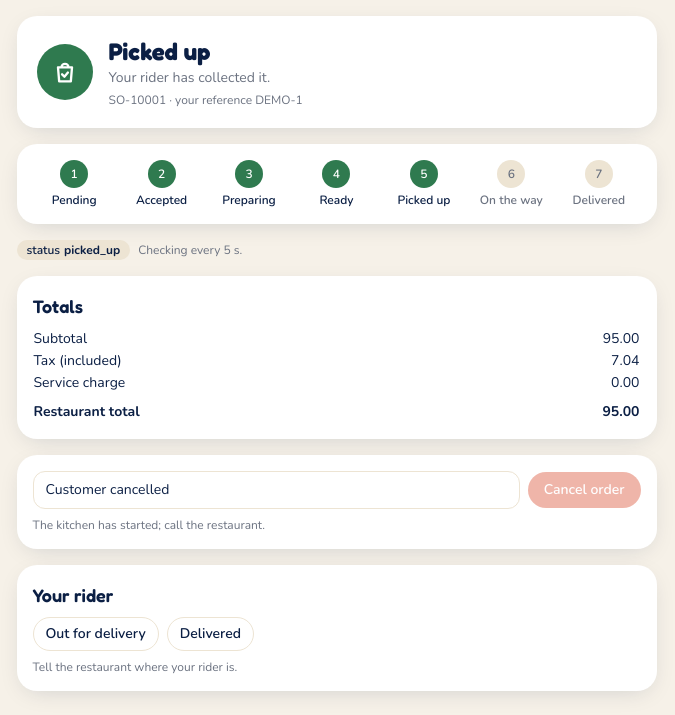
Test case: OrderPage › reports out_for_delivery then delivered, each with its own idempotency key, and stops polling at delivered
Expected: the text "picked_up" is shown, [64,242,120,258]
Expected: the text "Checking every 5 s." is shown, [138,242,242,258]
Click the button "Out for delivery" at (96, 634), box [32,617,159,651]
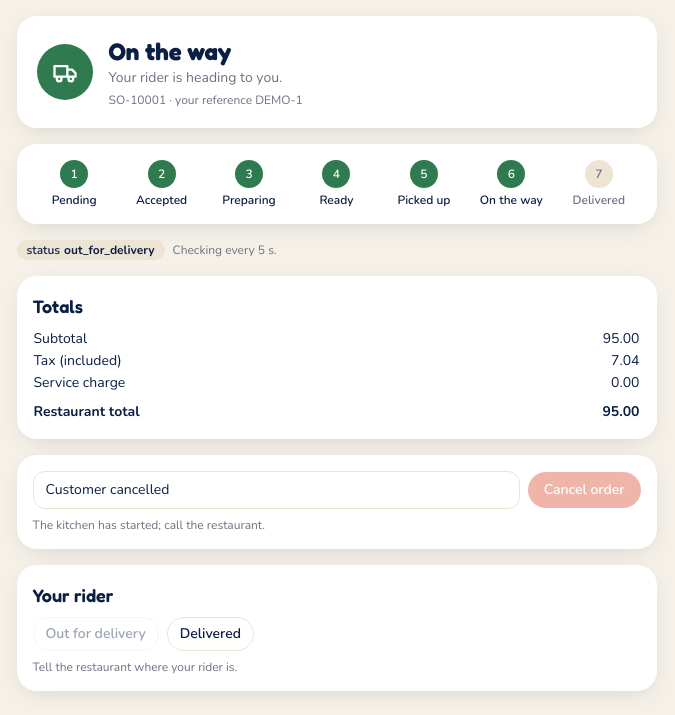
Now the text with test id "order-status" reads "out_for_delivery", box [64,242,155,258]
Now the heading with test id "status-title" reads "On the way", box [108,37,231,66]
Now the button "Out for delivery" is disabled, box [32,617,159,651]
Click the button "Delivered" at (210, 634), box [167,617,254,651]
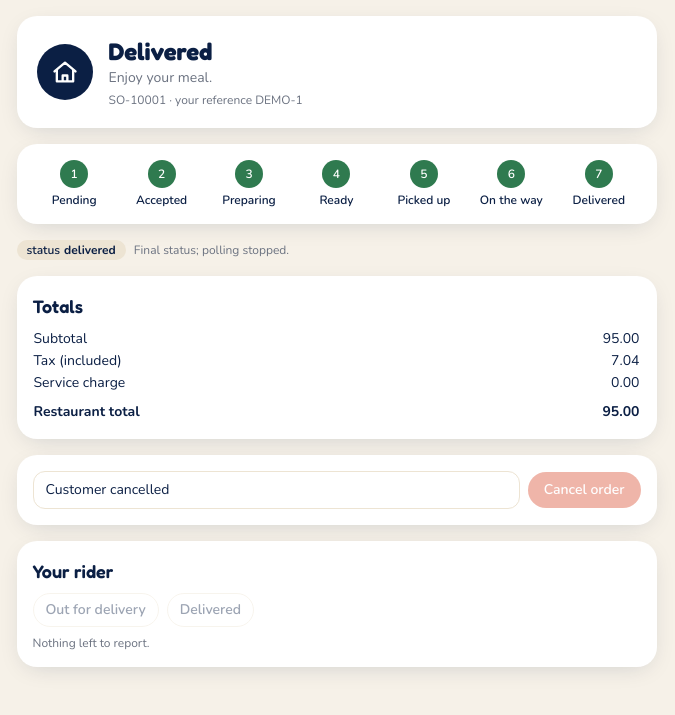
Now the text "Final status; polling stopped." is shown, box [134,242,289,258]
Now the text with test id "order-status" reads "delivered", box [64,242,116,258]
Now the button "Delivered" is disabled, box [167,593,254,627]
